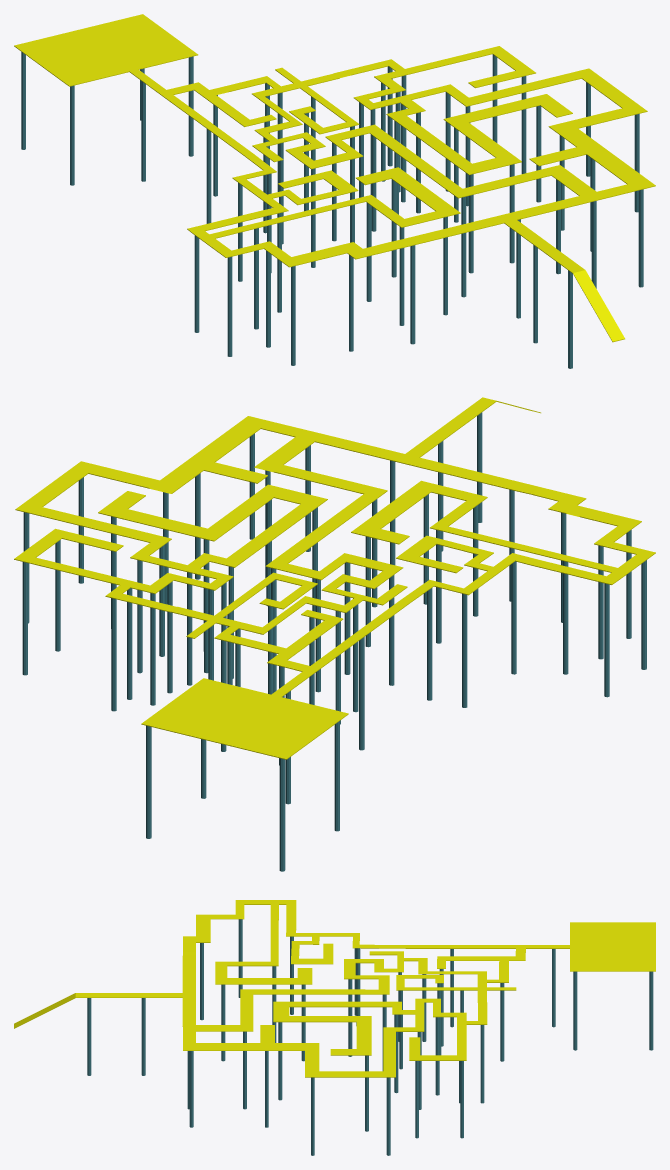
The model's file is qiao.fbx.
The picture shows the model from 3 angles, top to bottom: view 1: azimuth 30°, elevation 25°; view 2: azimuth 150°, elevation 25°; view 3: azimuth 270°, elevation 25°; orthographic projection. The views are drawn at different scales.
Visible parts, largest first — view 1: polySurface4, pCylinder63; view 2: polySurface4, pCylinder63; view 3: polySurface4, pCylinder63.
Boxes of the visible parts, x1,y1,x2,y2 form: polySurface4: (14,14,655,342); pCylinder63: (21,52,643,368); polySurface4: (14,397,655,759); pCylinder63: (22,412,646,871); polySurface4: (14,900,655,1077); pCylinder63: (87,919,653,1155).
Size of the model in its own units: 1405 by 297 by 2153.
